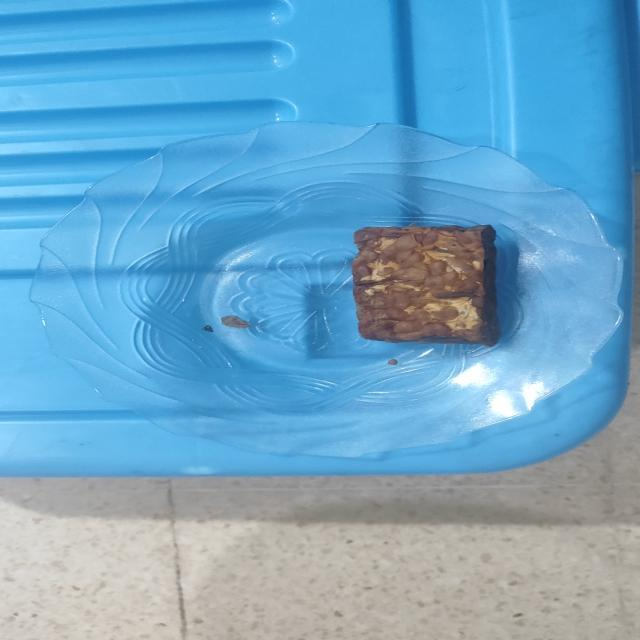tempe_goreng: (352, 226, 498, 346)
